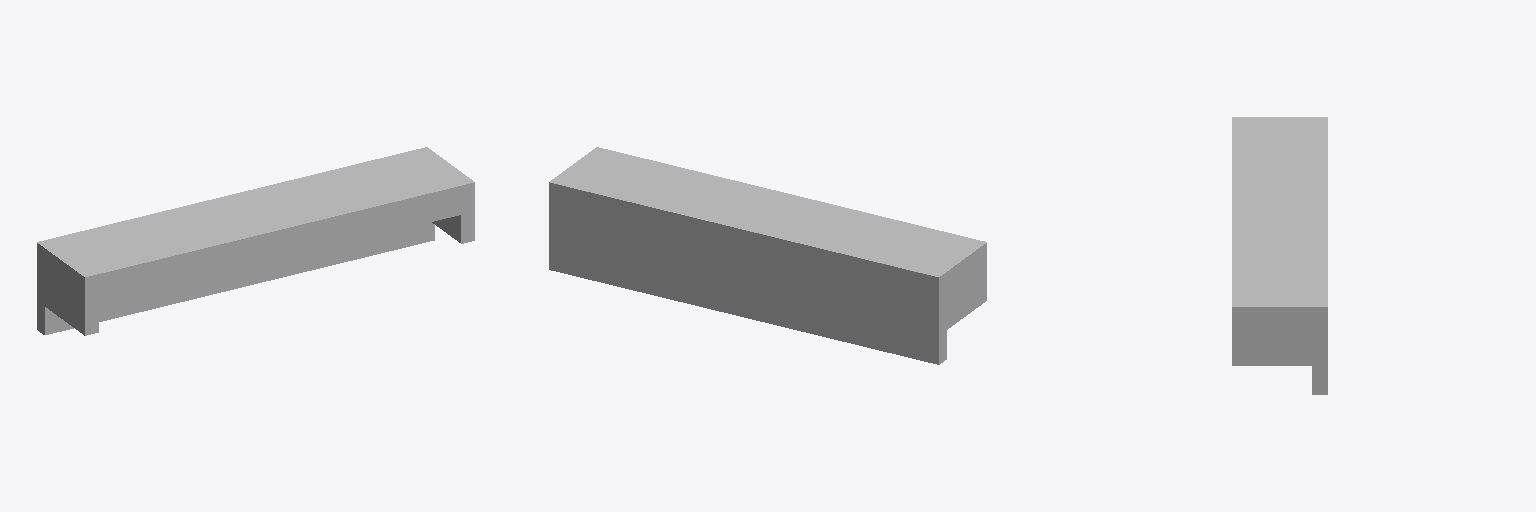
File: couch31.obj
3 renders of one model, left to right at view 1: azimuth 30°, elevation 25°; view 2: azimuth 150°, elevation 25°; view 3: azimuth 270°, elevation 25°, orthographic.
Parts seen in each view (by area): view 1: Cube.001_Cube.006; view 2: Cube.001_Cube.006; view 3: Cube.001_Cube.006.
Part boxes in pixels (bbox=[...]): Cube.001_Cube.006: bbox=[37, 147, 474, 335]; Cube.001_Cube.006: bbox=[549, 147, 986, 364]; Cube.001_Cube.006: bbox=[1232, 117, 1327, 394].
Size of the model in its own units: 2.8 by 0.6 by 0.6.